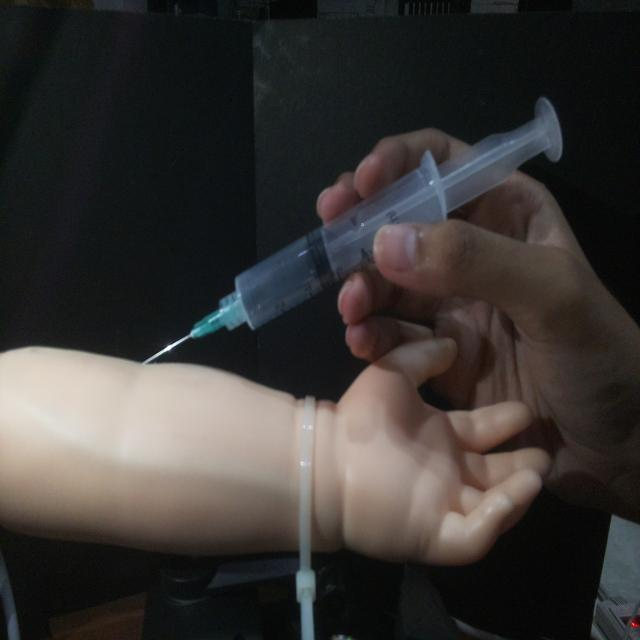23deg: (138, 90, 568, 368)
